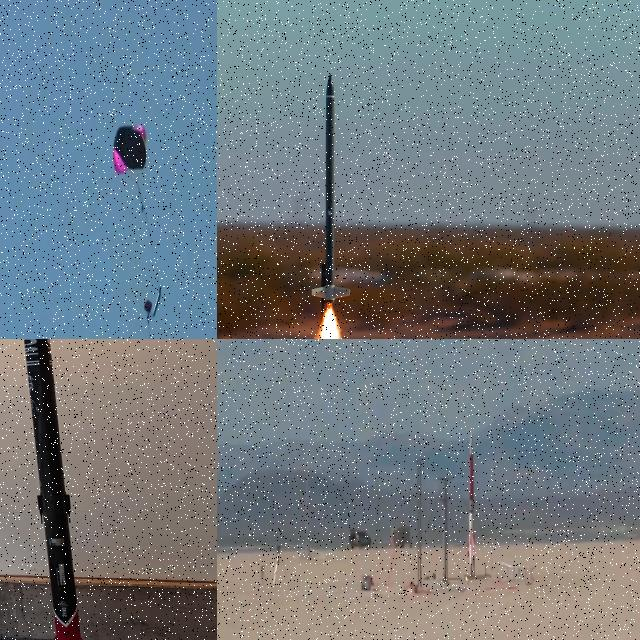Rocket: (24, 339, 83, 640), (312, 72, 352, 304), (467, 430, 476, 564), (153, 285, 161, 317)
